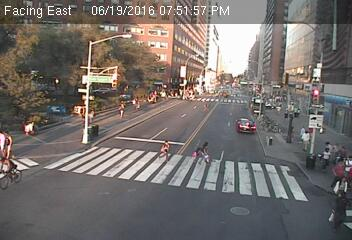neg: (256, 100, 267, 115), (220, 89, 227, 98)
pos: (324, 189, 351, 232), (318, 146, 337, 172), (332, 156, 351, 182), (194, 139, 213, 164), (159, 139, 175, 161), (299, 131, 315, 153), (337, 175, 350, 192), (115, 102, 127, 119), (85, 106, 97, 122), (131, 97, 142, 110), (323, 139, 333, 153), (343, 154, 351, 171), (300, 127, 308, 137)
